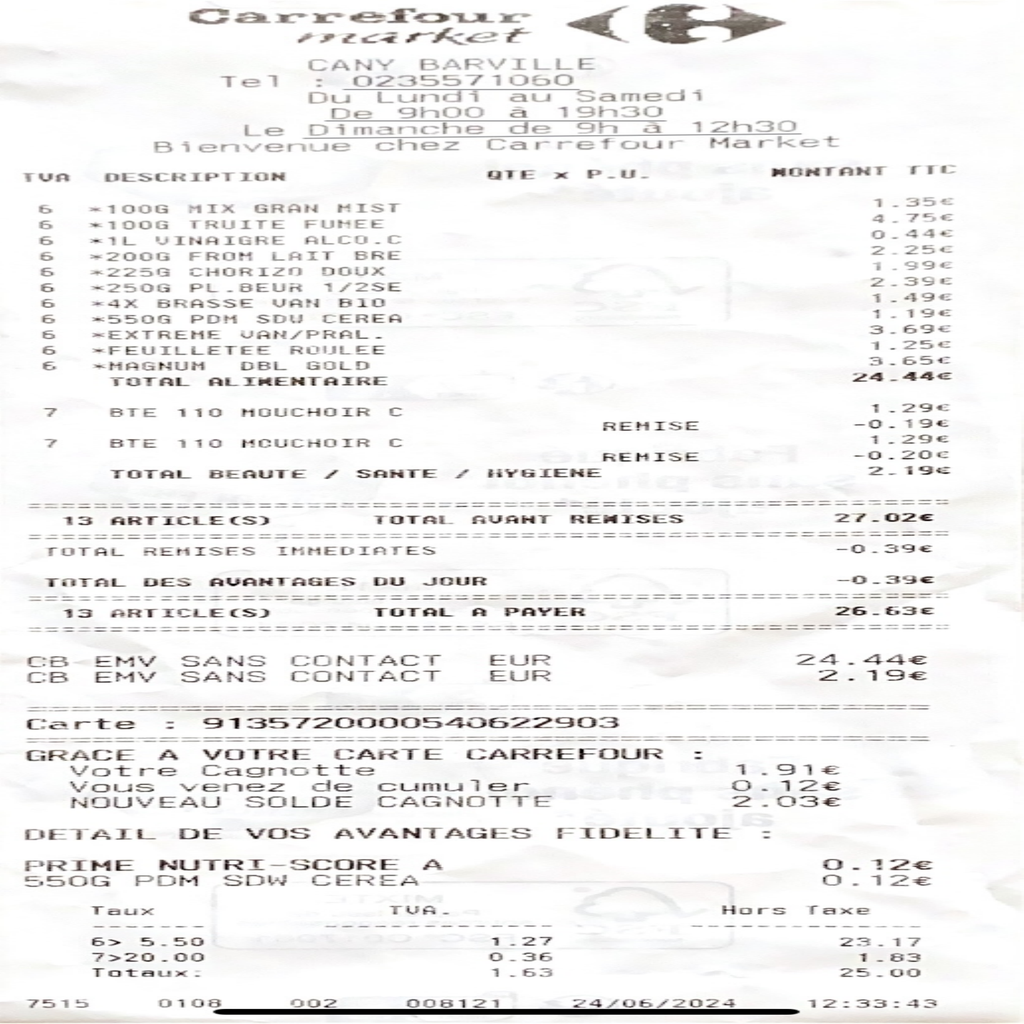recipt: (6, 0, 1022, 1022)
